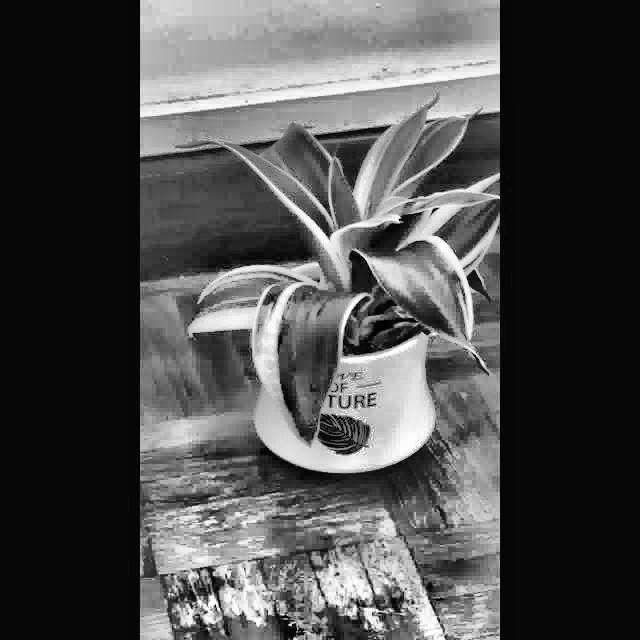plants: (178, 99, 500, 488)
